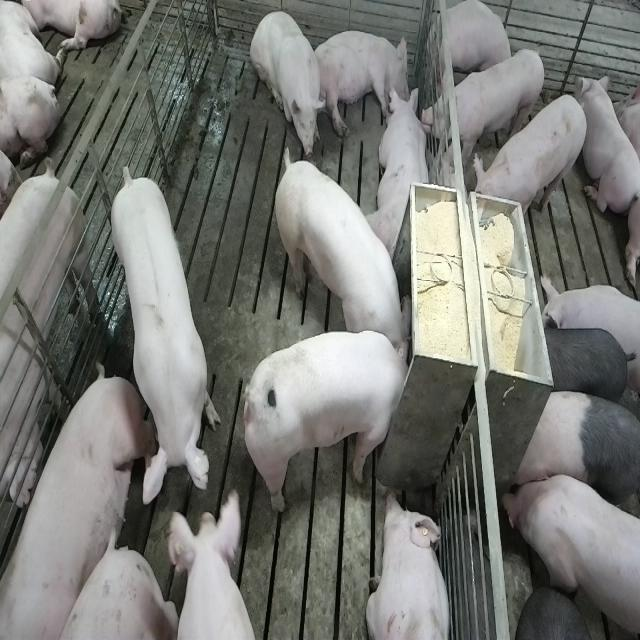Feeding: (248, 328, 419, 518), (272, 142, 410, 356)
Lateral_lying: (311, 29, 410, 138)
Sitting: (250, 7, 325, 159)
Standing: (108, 165, 220, 510), (0, 168, 98, 520), (502, 467, 638, 640), (510, 387, 638, 521), (472, 92, 589, 234), (423, 45, 547, 162), (167, 484, 257, 640), (532, 322, 636, 408)
Sternal_lying: (366, 490, 453, 640), (368, 85, 434, 264), (580, 72, 638, 221), (435, 1, 513, 87)
